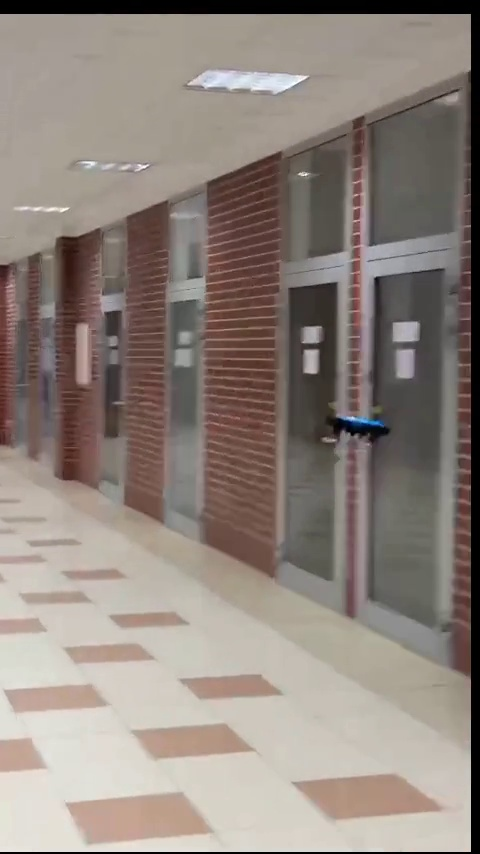drone: (322, 411, 391, 442)
